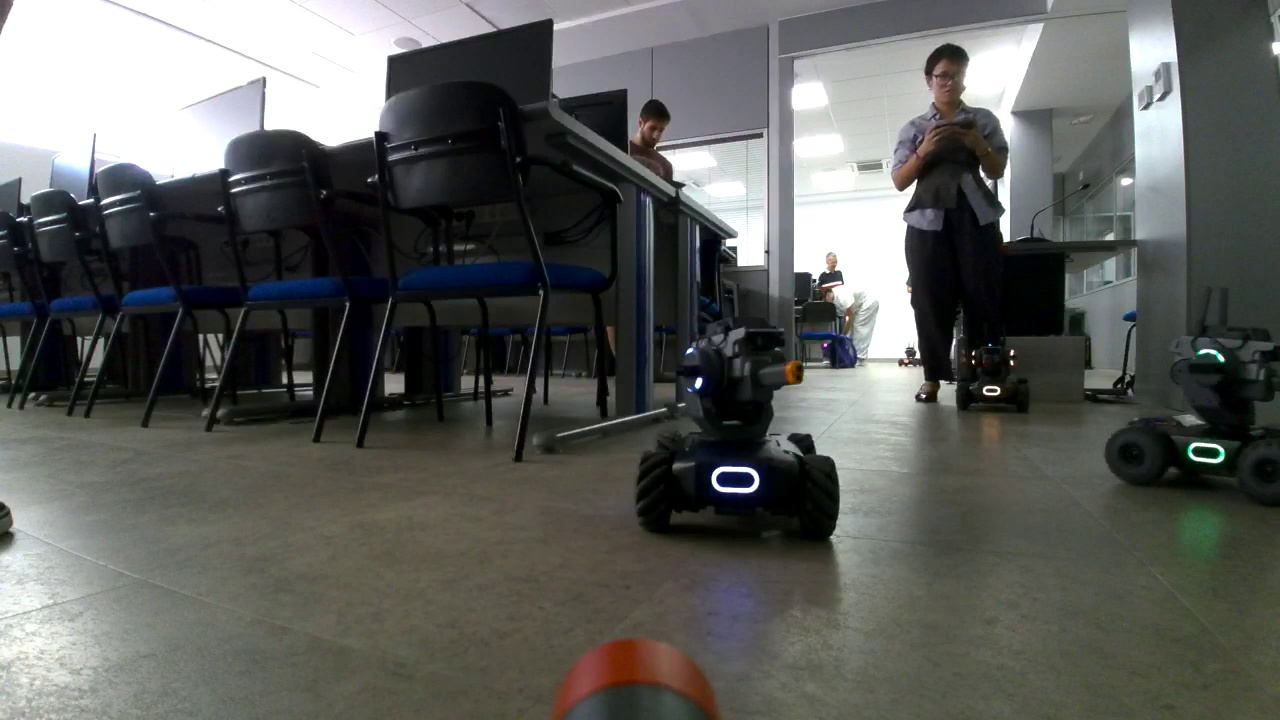robot: (632, 315, 840, 538), (1100, 283, 1280, 503), (950, 333, 1030, 410), (895, 343, 922, 368), (821, 341, 835, 363)
